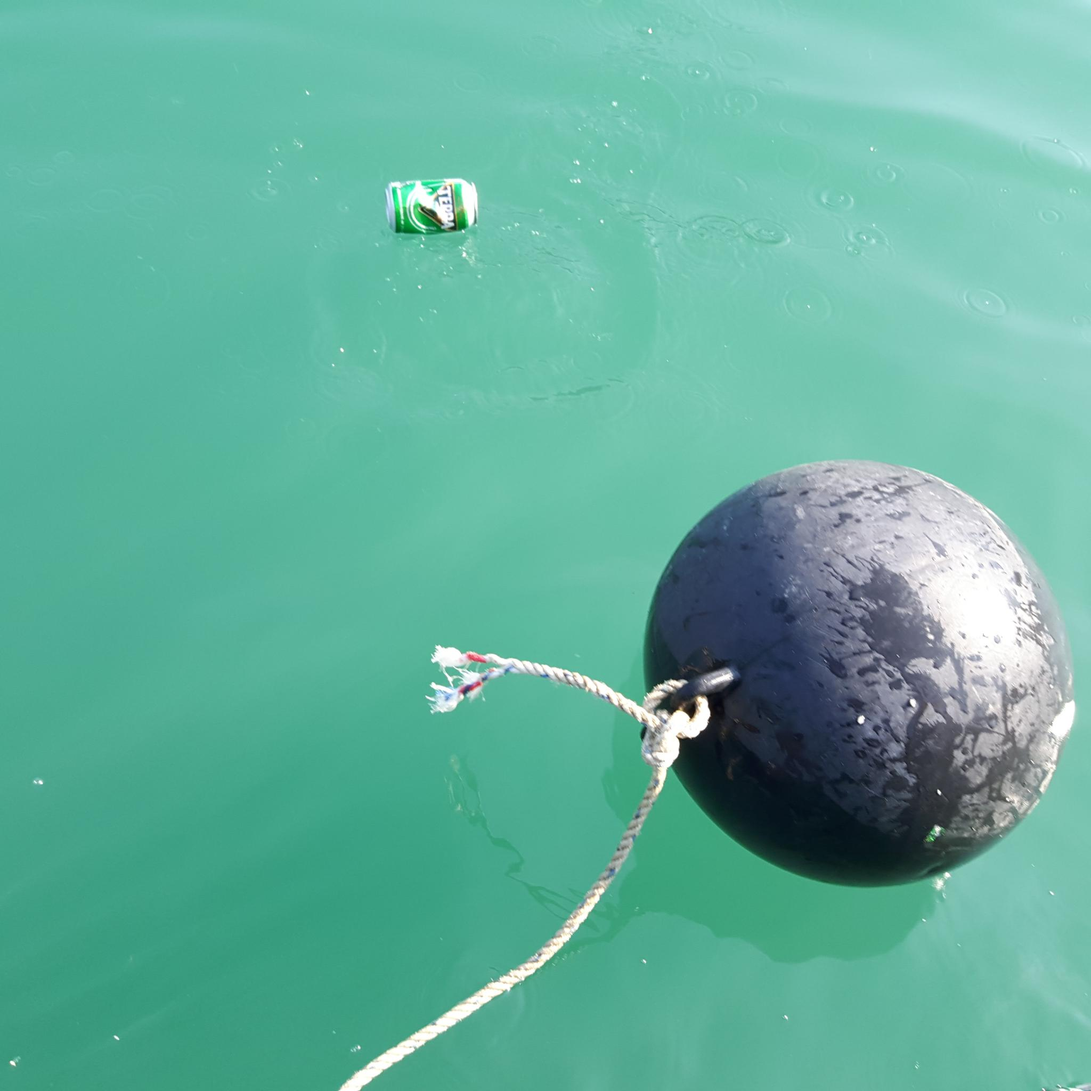sampah_terapung: (645, 460, 1076, 887), (339, 645, 710, 1091), (386, 179, 479, 235)
